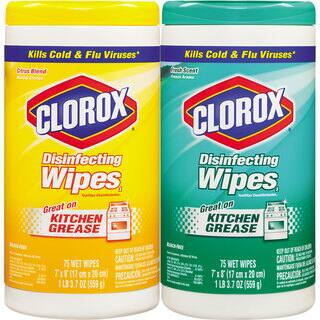Wipes: (2, 1, 161, 318), (162, 1, 319, 319)
